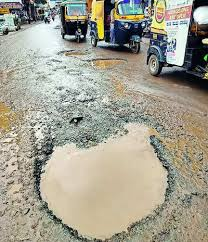Pothole: (24, 118, 178, 242)
